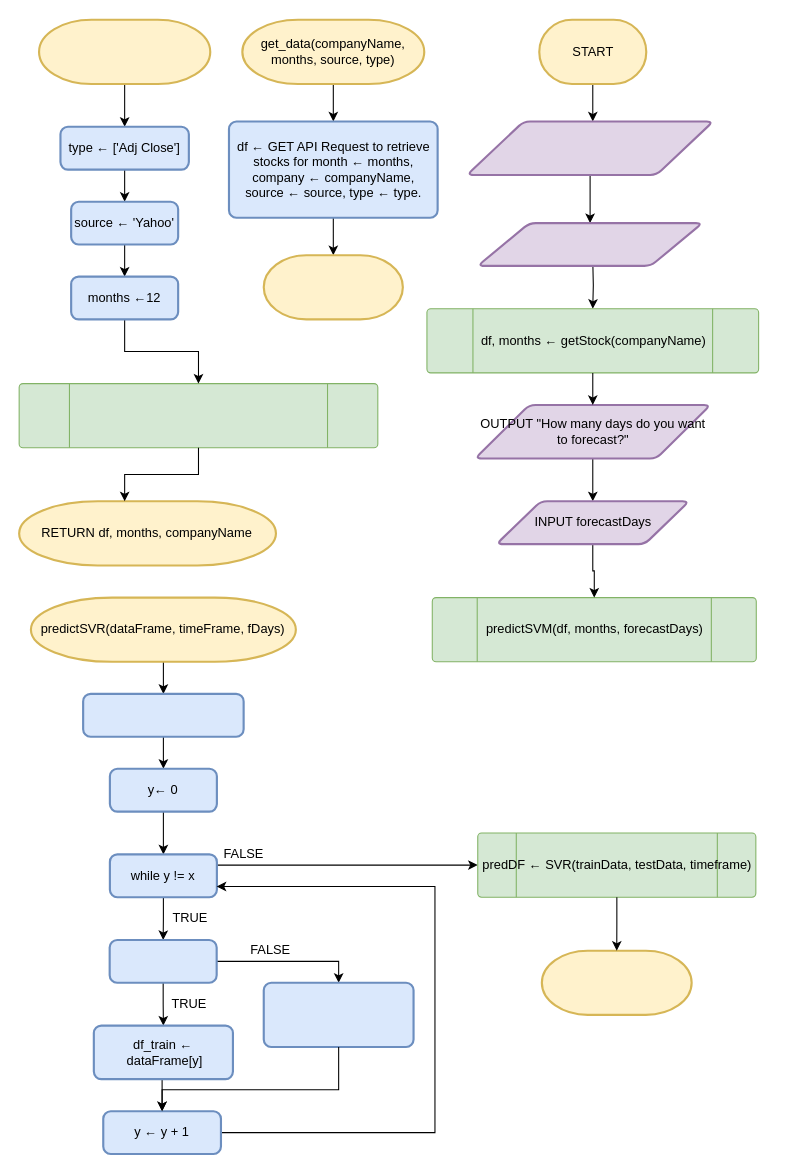
Image size: 799x1173. Some labels were removed from this diagram. Each missing label, with the centre of its shape:
df, ← get_data(companyName, months, source, type): (198,415)
df_test ← dataFrame[y]: (338,1014)
getStock(companyName): (124,51)
if y < 8/10 * x: (162,960)
INPUT companyName: (589,243)
OUTPUT "What is the name of the company you want to predict?": (589,147)
RETURN df: (332,287)
return predDF: (616,982)
x ← sizeof(dataFrame): (163,714)
